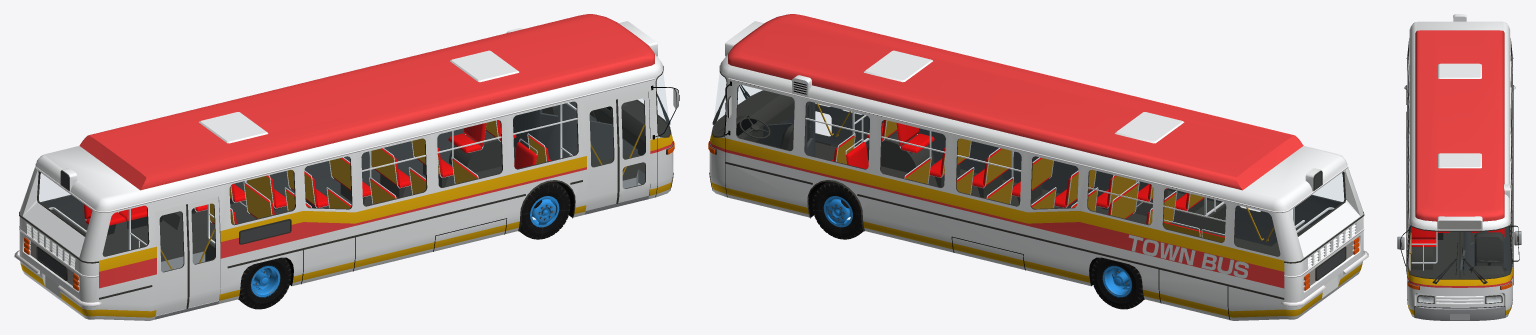
The model's file is bus.glb.
The picture shows the model from 3 angles, left to right: view 1: azimuth 30°, elevation 25°; view 2: azimuth 150°, elevation 25°; view 3: azimuth 270°, elevation 25°; orthographic projection. The views are drawn at different scales.
Parts seen in each view (by area): view 1: Object_4, Object_5, Object_10, Object_12, Object_16; view 2: Object_4, Object_5, Object_10, Object_12, Object_16, Object_2; view 3: Object_4, Object_5.
Boxes of the visible parts, x1,y1,x2,y2 form: Object_4: (19,14,676,320); Object_5: (14,21,679,308); Object_10: (519,181,570,239); Object_12: (238,257,291,309); Object_16: (39,75,668,201); Object_4: (708,14,1363,320); Object_5: (709,21,1368,319); Object_10: (812,181,863,239); Object_12: (1091,257,1144,309); Object_16: (714,74,1343,215); Object_2: (1128,234,1248,278); Object_4: (1407,14,1520,320); Object_5: (1397,28,1521,320).
Bounding box in the file's own units: 131 × 32.35 × 31.86.
Materials: 7 (7 with a texture image).
